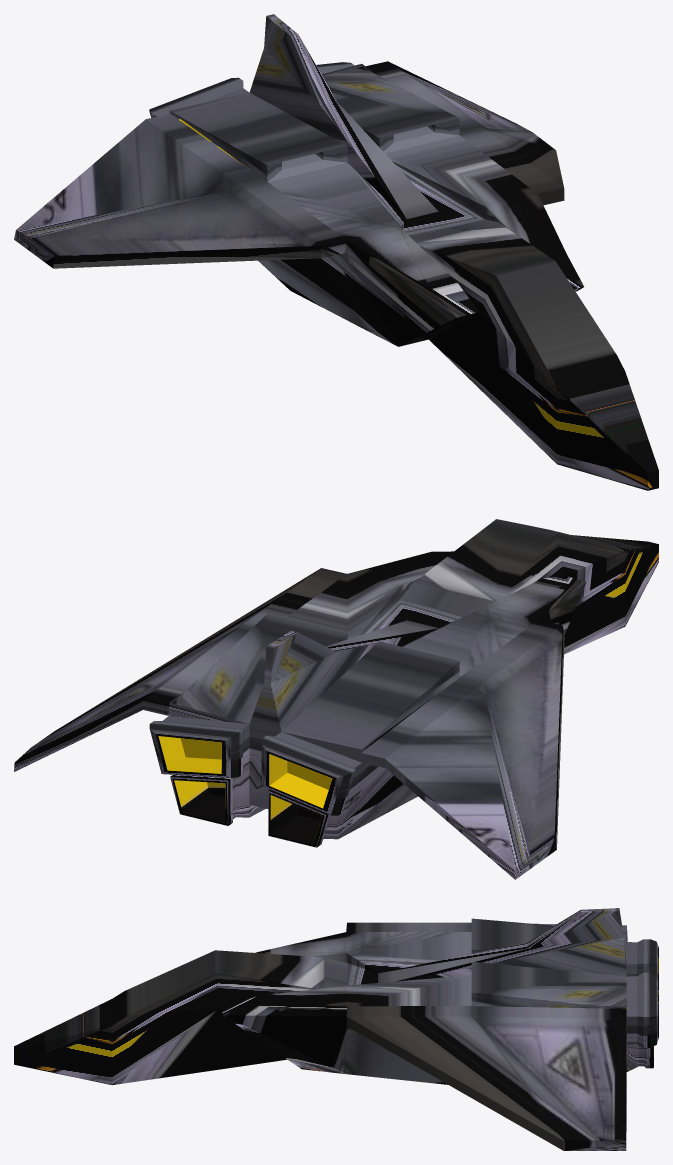
The model's file is spaceship.obj.
3 views of the same model, one above another, from view 1: azimuth 30°, elevation 25°; view 2: azimuth 150°, elevation 25°; view 3: azimuth 270°, elevation 25° (orthographic). The views are drawn at different scales.
Visible parts, largest first — view 1: SpaceFight; view 2: SpaceFight; view 3: SpaceFight.
Part boxes in pixels (x1,y1,x2,y2): SpaceFight: [14, 14, 658, 490]; SpaceFight: [14, 519, 658, 879]; SpaceFight: [14, 908, 658, 1150].
Bounding box in the file's own units: 183 × 71.6 × 257.
1 material, 1 textured.
